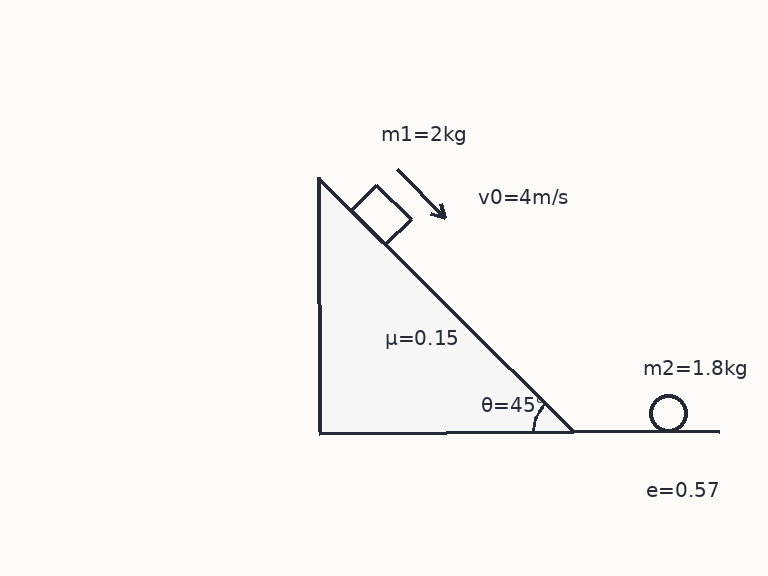ball: (647, 392, 689, 434)
block: (349, 183, 412, 246)
ramp: (317, 176, 575, 434)
